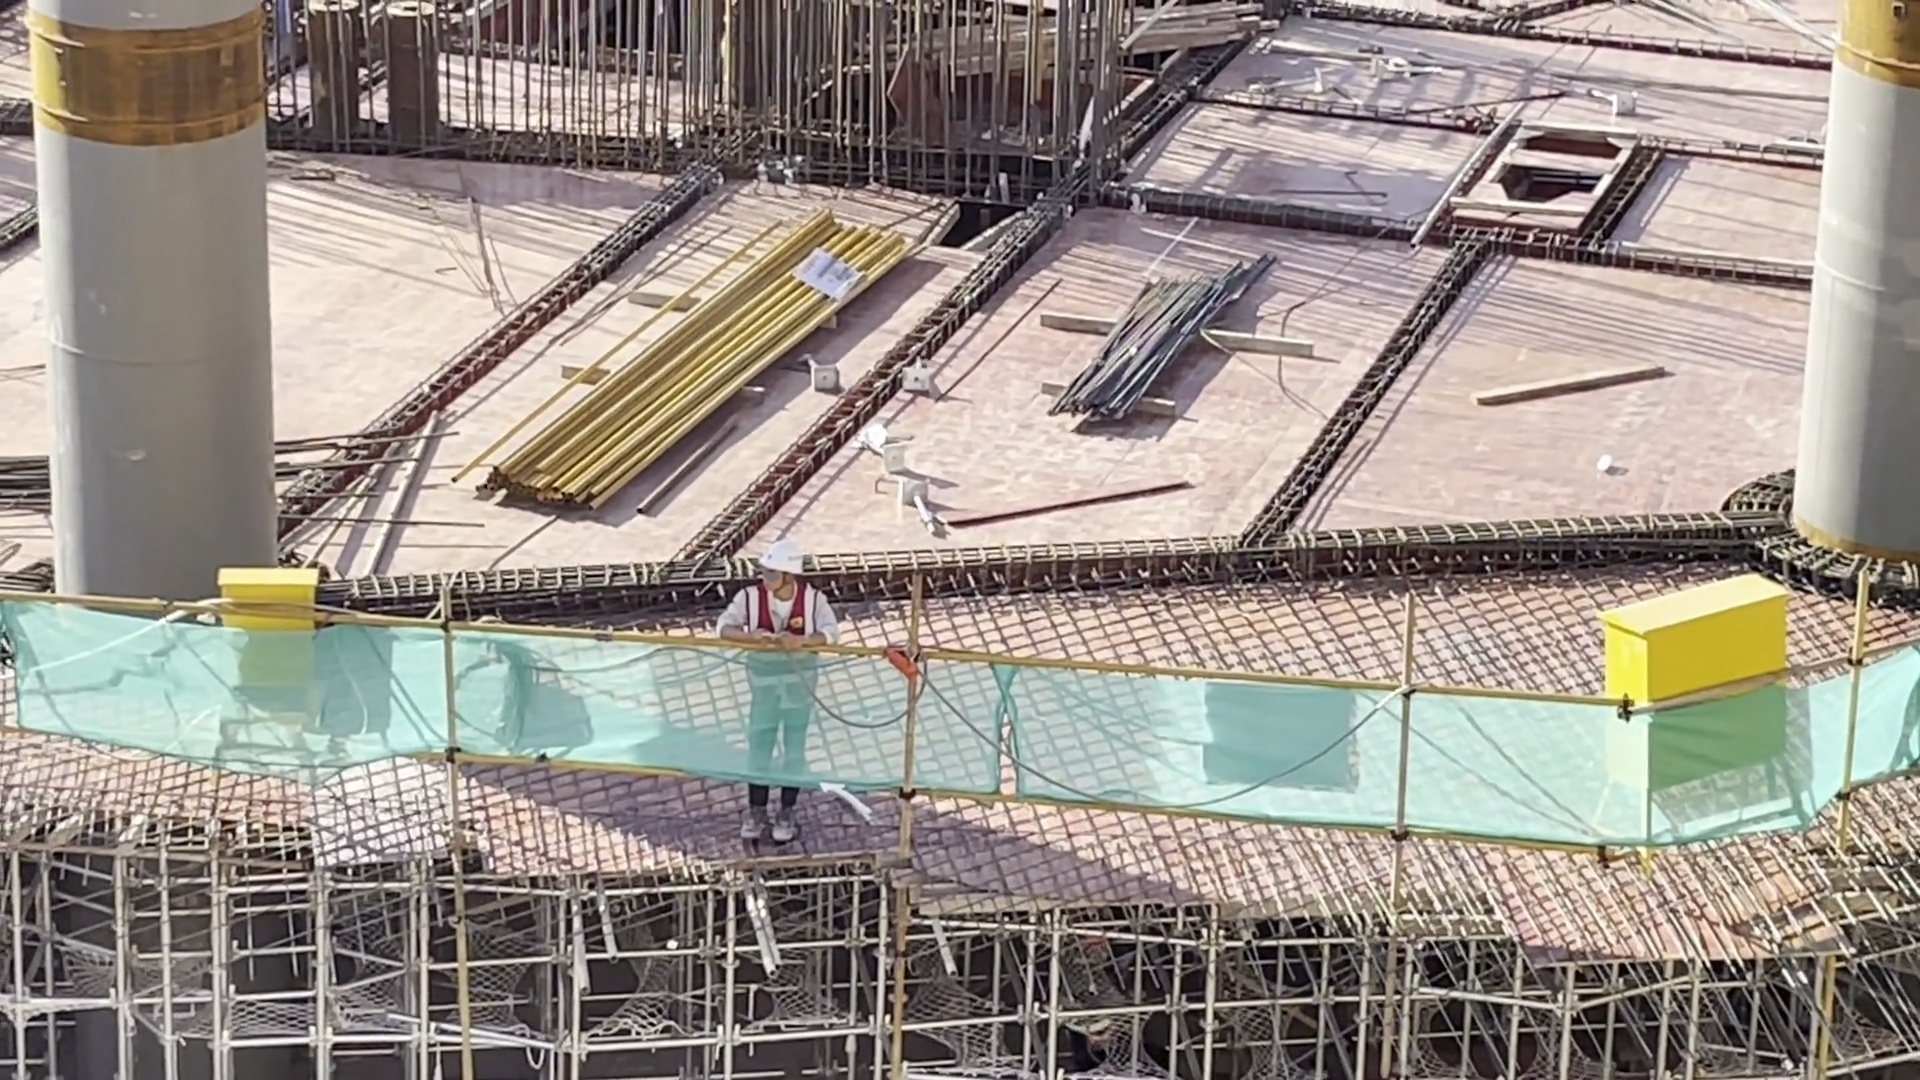helmet: (749, 546, 801, 581), (1101, 921, 1131, 954)
person: (738, 553, 824, 798), (1036, 916, 1154, 1080)
vest: (1064, 956, 1126, 1062), (761, 596, 818, 694)
